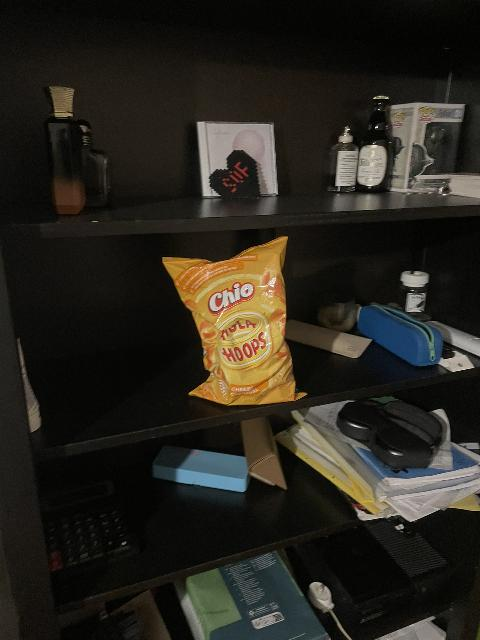Chio Hula Hoops Cheese 70g: (161, 240, 303, 407)
